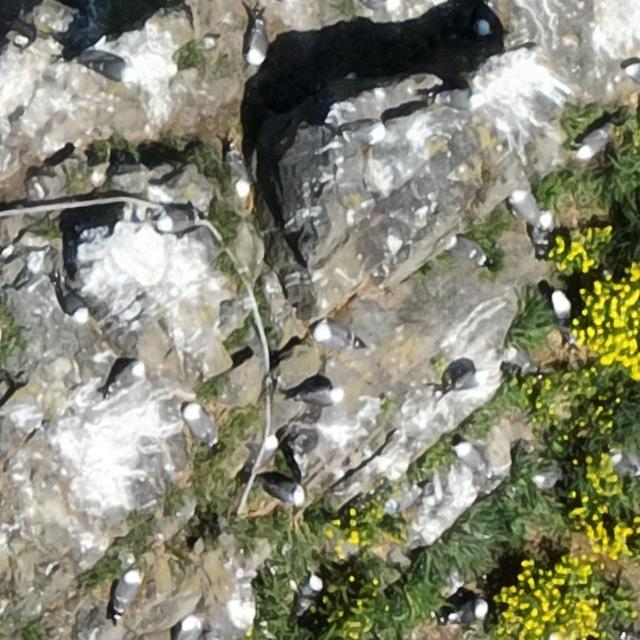umineko: (224, 140, 254, 199), (115, 570, 140, 610), (578, 126, 608, 157), (186, 408, 213, 442), (434, 90, 479, 110), (447, 238, 483, 262), (297, 573, 321, 609), (111, 364, 143, 390), (265, 481, 302, 503), (248, 26, 268, 66), (451, 601, 489, 622), (316, 326, 352, 348), (60, 290, 86, 320), (456, 443, 484, 469), (512, 191, 536, 221), (532, 212, 556, 242), (92, 59, 126, 79), (301, 388, 340, 405), (452, 370, 483, 391), (505, 347, 533, 370), (612, 454, 640, 477), (162, 211, 193, 230), (551, 291, 569, 321), (533, 470, 559, 490), (625, 63, 639, 86)
